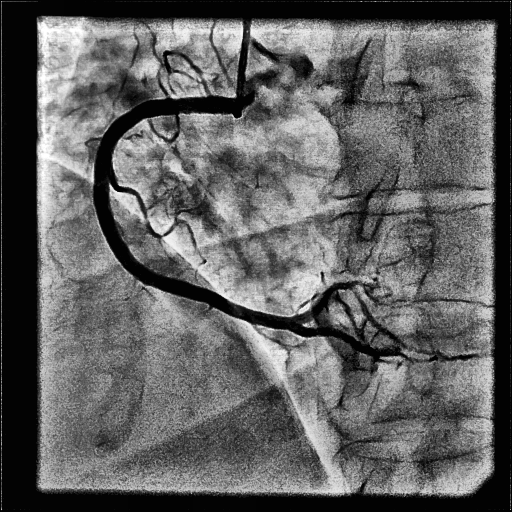pborca: (294, 283, 429, 355)
pda: (291, 324, 392, 356)
rca: (94, 96, 298, 330)
